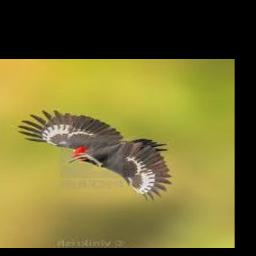Woodpecker: (17, 110, 173, 201)
